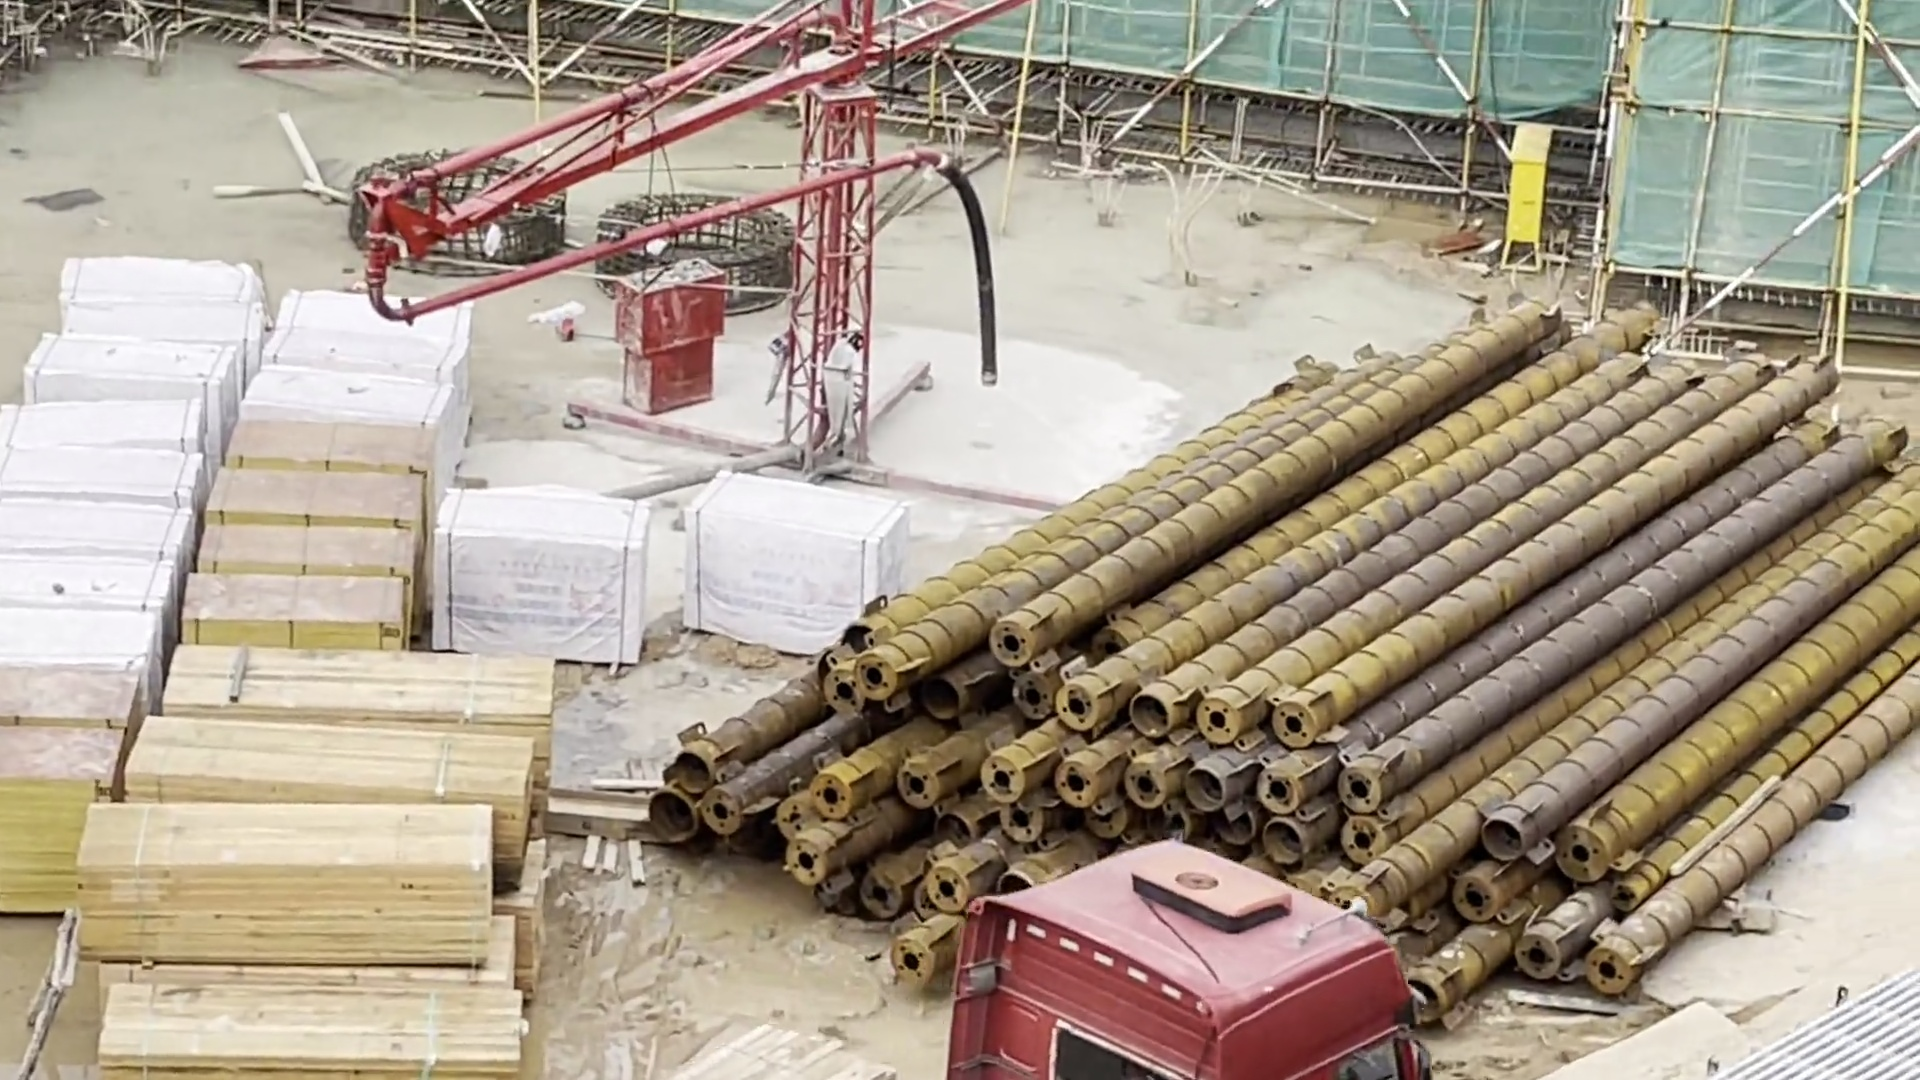ebox: (1499, 125, 1563, 273)
wood: (80, 638, 558, 1080)
